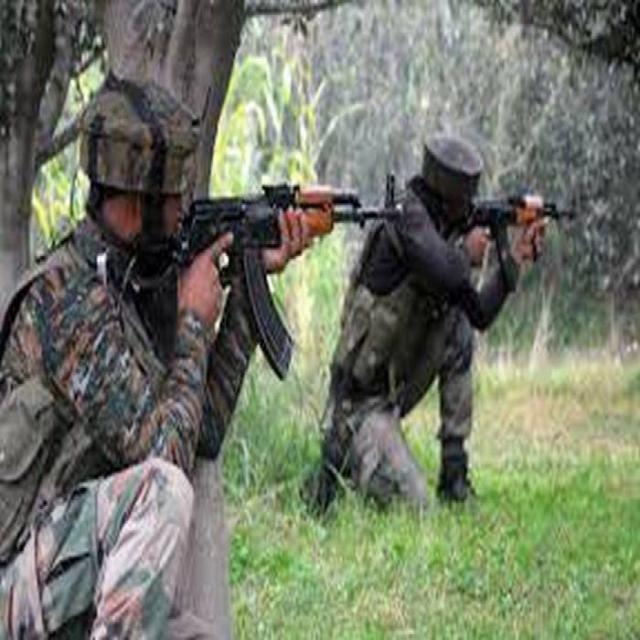Forest: (0, 0, 640, 640)
Militant: (0, 66, 302, 640), (312, 110, 558, 538)
